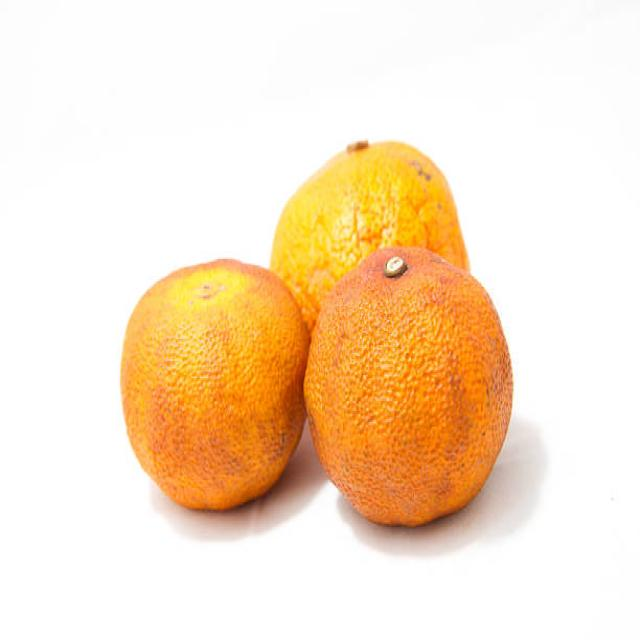overripe: (309, 240, 516, 526), (117, 253, 308, 516)
